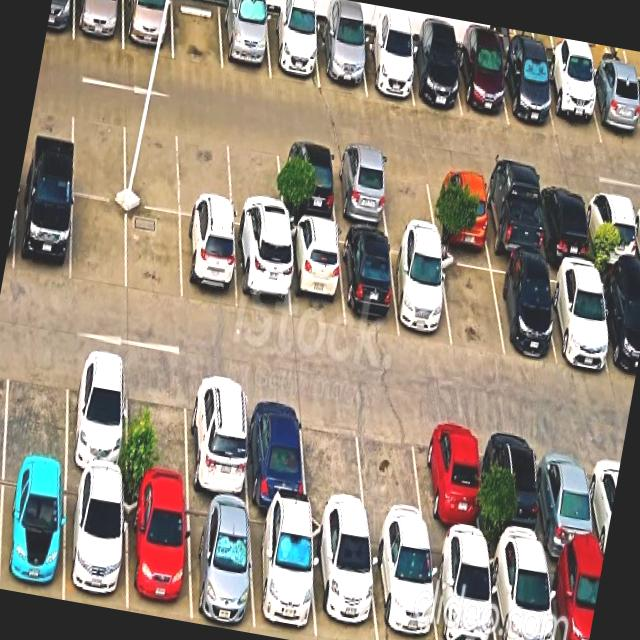car: (186, 496, 254, 631), (0, 464, 66, 599), (249, 507, 315, 640), (125, 485, 190, 619), (419, 413, 483, 545), (64, 473, 126, 608), (311, 517, 377, 640), (537, 433, 599, 562), (66, 350, 126, 481), (188, 373, 248, 504), (245, 384, 306, 512), (487, 424, 545, 553), (369, 530, 437, 640), (545, 261, 610, 371), (428, 537, 495, 640), (489, 257, 555, 359), (389, 238, 451, 346), (487, 546, 554, 640), (338, 229, 398, 333), (286, 221, 344, 327), (13, 179, 72, 281), (180, 215, 237, 310), (233, 226, 290, 319), (481, 173, 542, 259), (545, 554, 603, 640), (431, 164, 489, 248), (278, 140, 336, 224), (597, 269, 640, 382), (331, 148, 388, 231), (543, 63, 601, 143), (585, 187, 639, 270), (537, 181, 592, 262), (585, 70, 640, 150), (501, 53, 555, 134), (455, 46, 508, 124), (406, 41, 461, 115), (266, 12, 319, 87), (219, 3, 270, 79), (360, 33, 413, 105), (316, 25, 365, 94), (123, 0, 173, 58), (73, 0, 123, 49)
free: (357, 405, 427, 535), (301, 396, 366, 525), (4, 341, 68, 469), (127, 362, 188, 493), (439, 249, 504, 355), (227, 130, 283, 232), (124, 112, 179, 213), (179, 122, 232, 222), (71, 194, 126, 290), (127, 205, 181, 302), (72, 102, 124, 201), (379, 155, 436, 237), (172, 0, 222, 69)
